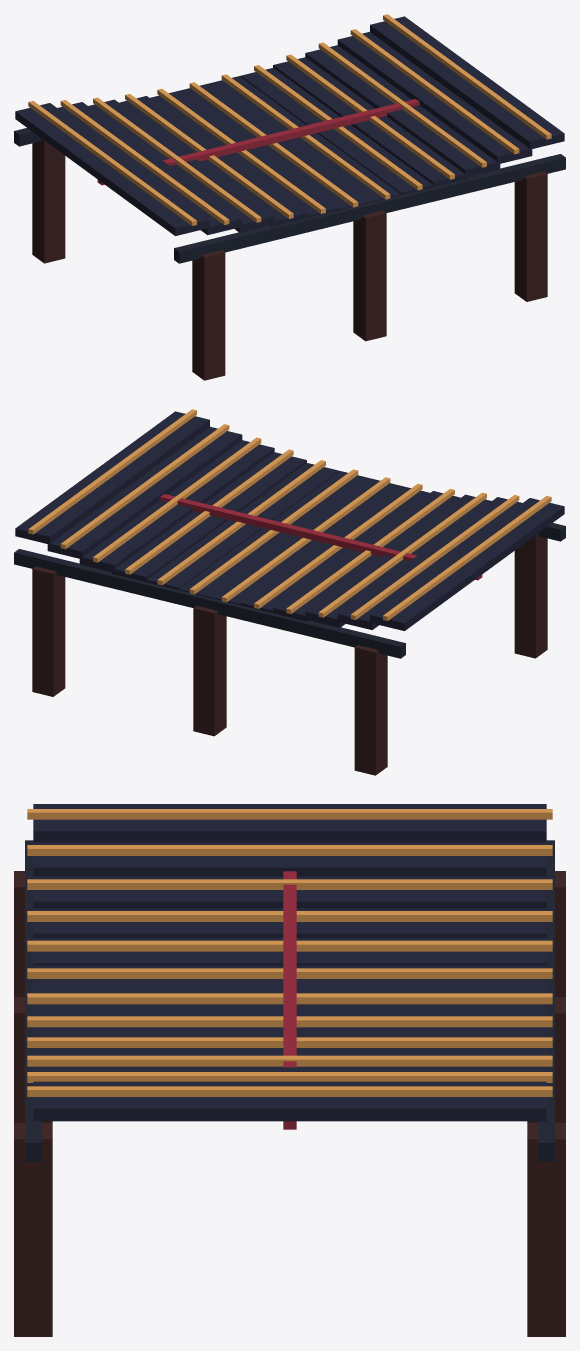
Rendered from dojo_curved_roof_module.obj.
3 renders of one model, top to bottom at view 1: azimuth 30°, elevation 25°; view 2: azimuth 150°, elevation 25°; view 3: azimuth 270°, elevation 25°, orthographic. The views are drawn at different scales.
Parts seen in each view (by area): view 1: dojo_curved_roof_module; view 2: dojo_curved_roof_module; view 3: dojo_curved_roof_module.
Boxes of the visible parts, x1=… form: dojo_curved_roof_module: x1=14, y1=14, x2=565, y2=380; dojo_curved_roof_module: x1=14, y1=409, x2=565, y2=775; dojo_curved_roof_module: x1=14, y1=804, x2=565, y2=1336.
Size of the model in its own units: 12.08 by 4.68 by 9.25.
